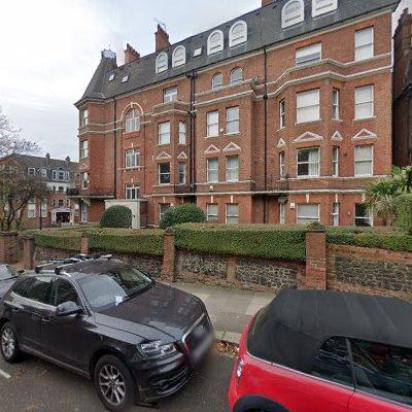stationary-car-onstreet: (1, 255, 213, 411), (228, 279, 410, 411), (0, 260, 26, 306)
